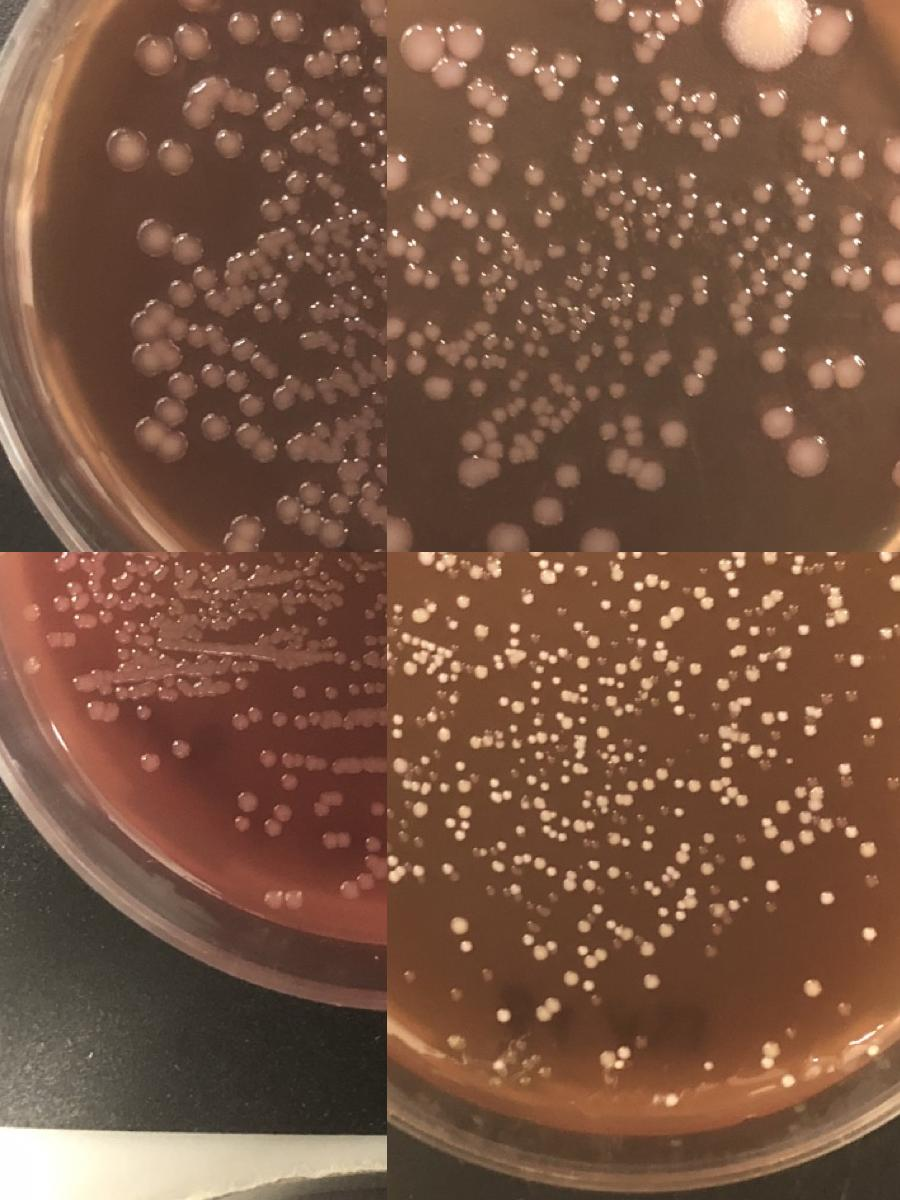assalmonicida: (510, 850, 559, 879), (624, 765, 671, 794), (440, 804, 474, 842), (797, 786, 826, 824), (487, 774, 513, 806), (601, 1044, 633, 1068), (827, 592, 850, 624), (758, 1040, 780, 1072), (535, 996, 562, 1022), (658, 605, 684, 630), (692, 585, 716, 611), (672, 776, 703, 794), (583, 948, 608, 970), (762, 588, 786, 610), (561, 866, 580, 892), (387, 854, 403, 882), (540, 568, 558, 588), (746, 742, 764, 760), (774, 798, 792, 816), (799, 828, 817, 846), (450, 916, 468, 934), (860, 926, 878, 944), (642, 972, 660, 990), (804, 979, 822, 997), (412, 610, 430, 627), (392, 757, 410, 774), (411, 802, 429, 819), (778, 839, 796, 856), (819, 889, 837, 906), (638, 940, 656, 957), (609, 564, 625, 582), (627, 596, 643, 614), (797, 620, 813, 638), (878, 624, 894, 642), (802, 720, 818, 738), (468, 734, 484, 752), (818, 816, 834, 834), (410, 862, 426, 880), (581, 876, 597, 894), (534, 944, 550, 962), (823, 552, 864, 559), (734, 792, 750, 809), (531, 795, 547, 812), (764, 824, 780, 841), (605, 831, 621, 848), (675, 848, 691, 865), (491, 859, 507, 876), (418, 552, 436, 567), (452, 756, 467, 774), (664, 1090, 679, 1108), (469, 564, 485, 580), (725, 614, 741, 630), (586, 634, 602, 650), (777, 644, 793, 660), (628, 656, 644, 672), (639, 676, 655, 692), (868, 714, 884, 730), (718, 724, 734, 740), (436, 726, 452, 742), (570, 760, 586, 776), (436, 780, 452, 796), (844, 824, 860, 840), (494, 836, 510, 852), (860, 840, 876, 856), (441, 858, 457, 874), (710, 904, 726, 920), (658, 922, 674, 938), (495, 1008, 511, 1024), (447, 1034, 463, 1050), (778, 1072, 794, 1088), (404, 660, 418, 678), (866, 1040, 880, 1058), (507, 620, 522, 636), (652, 647, 668, 662), (849, 654, 865, 669), (747, 666, 762, 682), (716, 676, 731, 692), (667, 688, 682, 704), (510, 700, 526, 715), (559, 716, 575, 731), (709, 779, 725, 794), (670, 804, 685, 820), (740, 856, 756, 871), (728, 899, 744, 914), (459, 938, 474, 954), (563, 970, 579, 985), (581, 978, 597, 993), (838, 762, 852, 779), (578, 917, 592, 934), (716, 556, 731, 571), (475, 665, 490, 680), (459, 780, 474, 795), (802, 702, 818, 716), (775, 710, 791, 724), (598, 724, 612, 740), (718, 756, 734, 770), (700, 830, 716, 844), (699, 862, 715, 876), (606, 866, 622, 880), (519, 934, 535, 948), (701, 1058, 717, 1072), (456, 594, 470, 609), (472, 624, 487, 638), (573, 820, 588, 834), (766, 878, 780, 893), (889, 573, 900, 591), (576, 656, 590, 670), (879, 552, 895, 564), (763, 552, 778, 564), (527, 552, 544, 557), (435, 552, 451, 556)
pddamselae: (398, 18, 485, 92), (760, 404, 832, 482), (387, 314, 443, 378), (387, 229, 441, 290), (803, 351, 870, 393), (806, 5, 858, 57), (687, 113, 744, 154), (682, 344, 722, 398), (640, 182, 674, 245), (654, 74, 685, 138), (655, 0, 709, 36), (702, 198, 750, 238), (798, 115, 846, 152), (834, 206, 868, 258), (480, 274, 520, 316), (484, 518, 532, 552), (814, 152, 870, 180), (466, 149, 503, 190), (532, 190, 568, 230), (576, 95, 607, 137), (504, 42, 540, 78), (774, 238, 814, 270), (831, 264, 873, 294), (740, 214, 773, 252), (387, 508, 415, 552), (387, 147, 412, 196), (633, 458, 667, 494), (531, 494, 567, 528), (445, 198, 482, 231), (579, 523, 620, 552), (491, 394, 528, 426), (550, 48, 584, 82), (755, 84, 789, 118), (879, 129, 900, 178), (659, 290, 686, 328), (758, 344, 790, 376), (658, 420, 690, 450), (591, 0, 627, 26), (622, 412, 646, 449), (747, 264, 770, 299), (613, 334, 636, 369), (690, 270, 711, 308), (556, 462, 584, 490), (485, 92, 512, 120), (879, 300, 900, 336), (694, 87, 720, 116), (387, 353, 400, 411), (884, 187, 900, 234), (610, 214, 630, 251), (448, 256, 471, 288), (628, 6, 654, 34), (592, 69, 618, 97), (468, 118, 494, 146), (458, 429, 484, 455), (887, 446, 900, 498), (879, 255, 900, 284), (508, 366, 530, 393), (563, 384, 583, 412), (522, 341, 550, 360), (485, 208, 508, 230), (768, 312, 791, 334), (524, 164, 546, 186), (676, 169, 698, 191), (674, 210, 696, 232), (774, 288, 796, 310), (732, 316, 754, 338), (752, 184, 775, 205), (796, 212, 816, 234), (467, 378, 489, 398), (506, 445, 528, 465), (598, 421, 618, 442), (604, 166, 624, 186), (639, 263, 659, 283), (643, 359, 663, 379), (608, 381, 628, 401), (584, 384, 604, 404), (637, 299, 653, 323), (608, 316, 635, 330), (547, 415, 565, 436), (574, 238, 594, 256), (590, 340, 606, 358), (622, 198, 638, 215), (463, 354, 478, 372), (617, 268, 633, 284), (501, 336, 517, 352), (534, 284, 548, 302), (578, 262, 594, 276), (519, 302, 535, 316), (464, 328, 478, 343), (514, 320, 528, 334)
vangil: (264, 804, 291, 837), (230, 707, 265, 731), (313, 791, 344, 817), (87, 702, 120, 722), (334, 650, 362, 672), (347, 681, 387, 696), (320, 831, 351, 850), (140, 581, 162, 604), (53, 594, 73, 614), (22, 603, 42, 623), (230, 660, 260, 673), (22, 656, 42, 674), (74, 674, 92, 693), (135, 706, 153, 724), (292, 714, 310, 732), (172, 740, 190, 758), (340, 880, 358, 898), (266, 891, 284, 909), (286, 891, 304, 909), (60, 552, 80, 568), (240, 792, 256, 812), (99, 608, 116, 626), (260, 749, 277, 767), (142, 753, 160, 770), (292, 684, 308, 702), (324, 684, 340, 702), (271, 710, 287, 728), (233, 676, 249, 692), (280, 752, 296, 768), (369, 800, 385, 816), (358, 874, 374, 890), (280, 774, 296, 789), (236, 816, 251, 832), (366, 838, 382, 852), (292, 624, 310, 636), (125, 560, 139, 572), (198, 560, 212, 572), (185, 568, 199, 580), (110, 578, 124, 590), (364, 634, 378, 646), (363, 609, 376, 621), (315, 616, 328, 628), (376, 592, 387, 605), (383, 613, 387, 625)
vharveyi: (130, 265, 223, 342), (135, 370, 200, 462), (133, 22, 211, 76), (134, 218, 203, 265), (305, 25, 360, 80), (345, 79, 387, 143), (198, 513, 264, 552), (273, 482, 323, 532), (106, 128, 152, 172), (266, 66, 308, 112), (132, 340, 182, 377), (236, 421, 277, 466), (272, 371, 315, 411), (185, 322, 229, 358), (201, 362, 250, 394), (225, 9, 263, 48), (157, 137, 195, 176), (266, 6, 304, 44), (326, 478, 362, 518), (212, 127, 244, 159), (198, 411, 230, 443), (222, 89, 258, 116), (252, 298, 292, 322), (182, 100, 212, 130), (260, 107, 288, 134), (309, 94, 336, 120), (348, 286, 374, 310), (340, 53, 364, 77), (260, 150, 284, 174), (284, 170, 308, 194), (232, 338, 256, 362), (240, 394, 264, 418), (357, 0, 387, 19), (259, 199, 282, 223), (172, 0, 218, 10), (370, 52, 387, 79), (298, 330, 318, 351), (312, 420, 331, 441), (328, 184, 344, 200), (296, 220, 312, 236), (258, 284, 274, 300), (323, 391, 339, 406), (369, 166, 385, 180), (379, 184, 387, 199)
